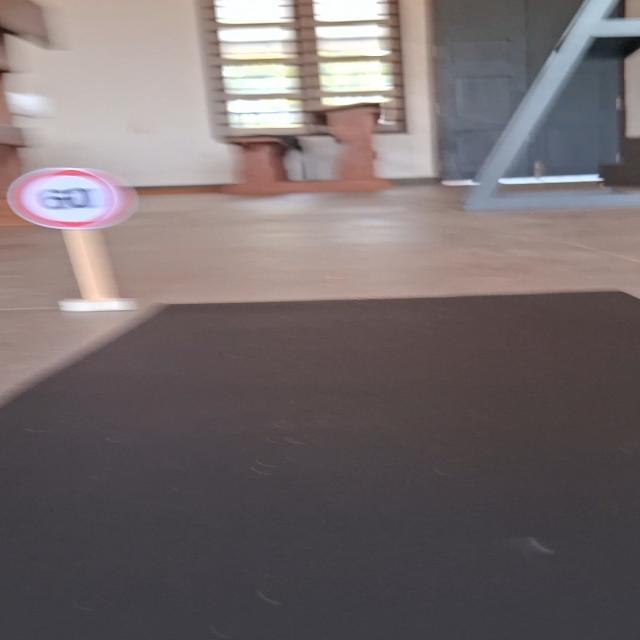Speed60: (3, 165, 144, 233)
